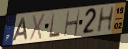2: (81, 7, 99, 37)
A: (12, 17, 29, 43)
H: (95, 5, 116, 35), (63, 9, 81, 39)
L: (48, 12, 62, 40)
X: (28, 13, 47, 42)
